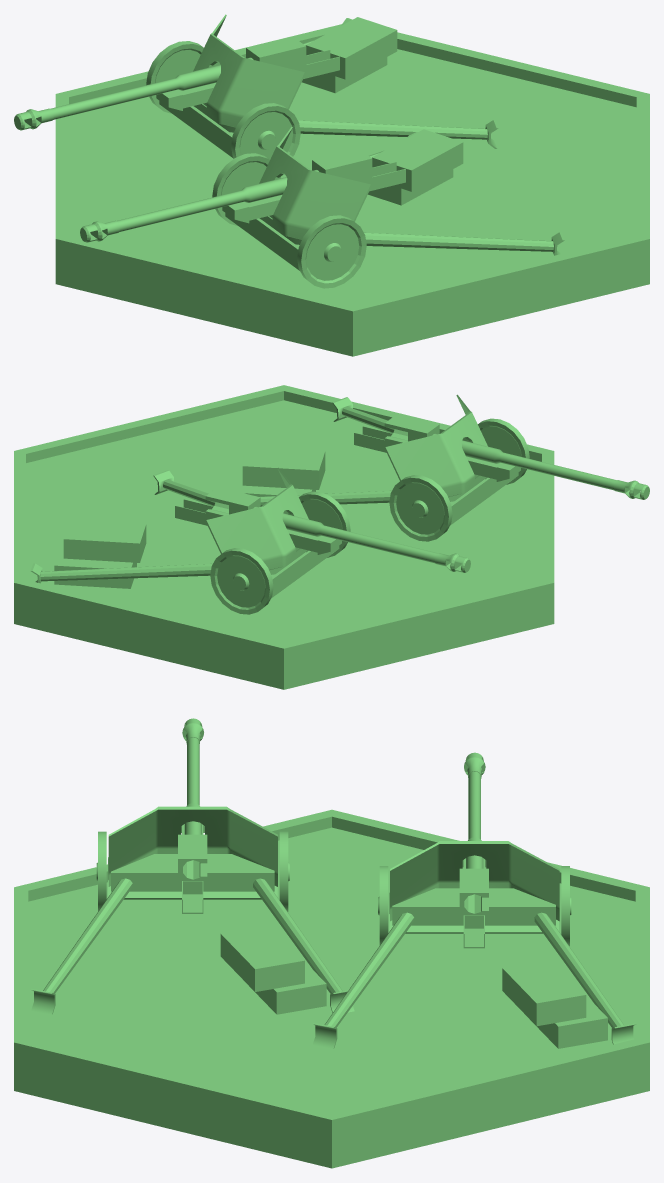
Rendered from paki40.fbx.
3 views of the same model, one above another, from view 1: azimuth 30°, elevation 25°; view 2: azimuth 150°, elevation 25°; view 3: azimuth 270°, elevation 25° (orthographic). The views are drawn at different scales.
Parts seen in each view (by area): view 1: polySurface20; view 2: polySurface20; view 3: polySurface20.
Boxes of the visible parts, x1,y1,x2,y2 form: polySurface20: (14, 14, 649, 356); polySurface20: (14, 385, 649, 689); polySurface20: (14, 718, 649, 1168).
Bounding box in the file's own units: 24.98 × 4.98 × 20.36.
